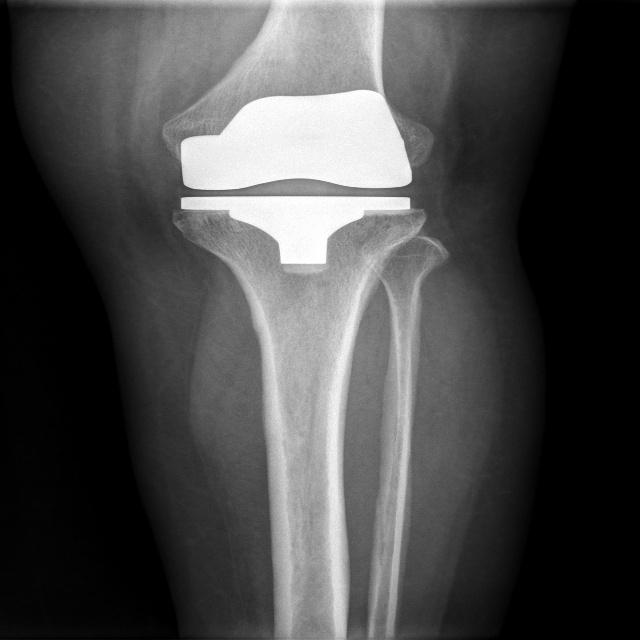Knee: (156, 87, 437, 283)
